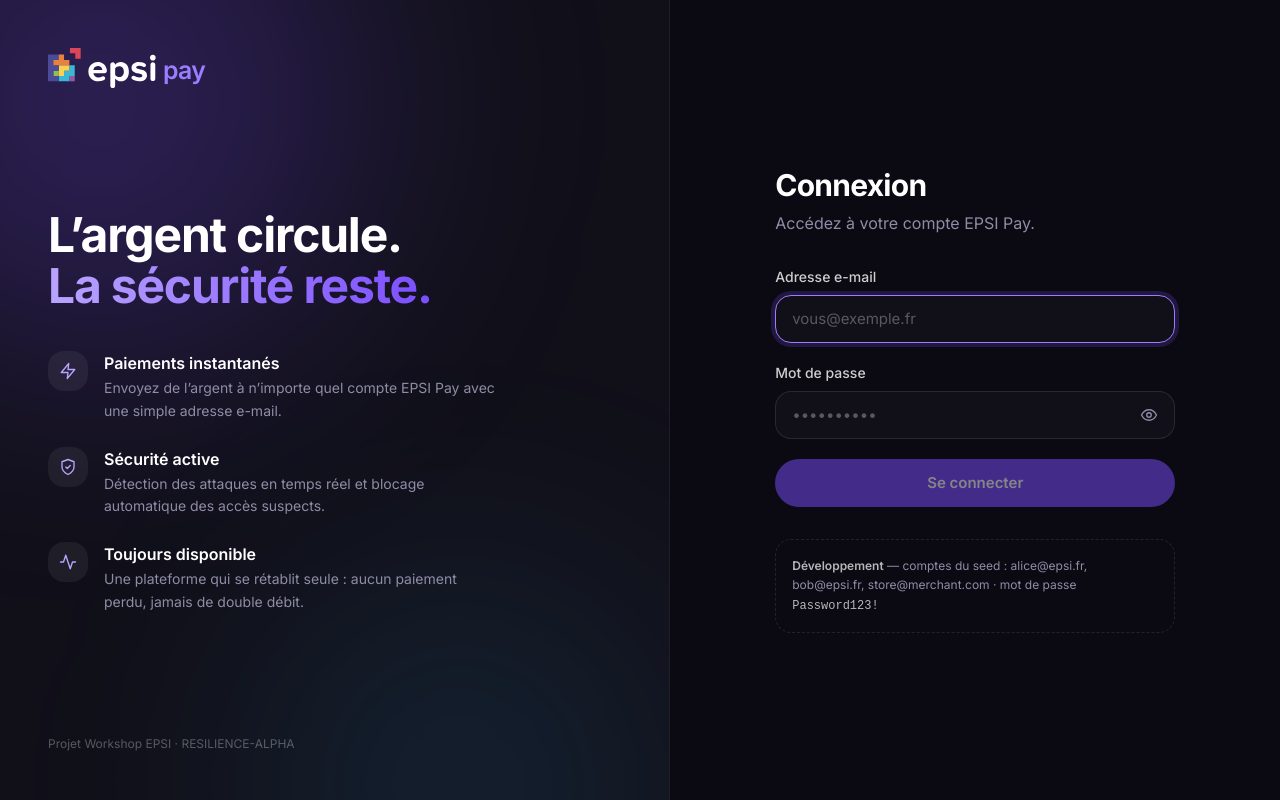
Test case: Écrans › Connexion › doit prévenir avant le verrouillage du compte
This screenshot has width=1280, height=800.
Type "alice@epsi.fr" into the field labelled "Adresse e-mail" at point(975, 319), box [775,295,1175,343]
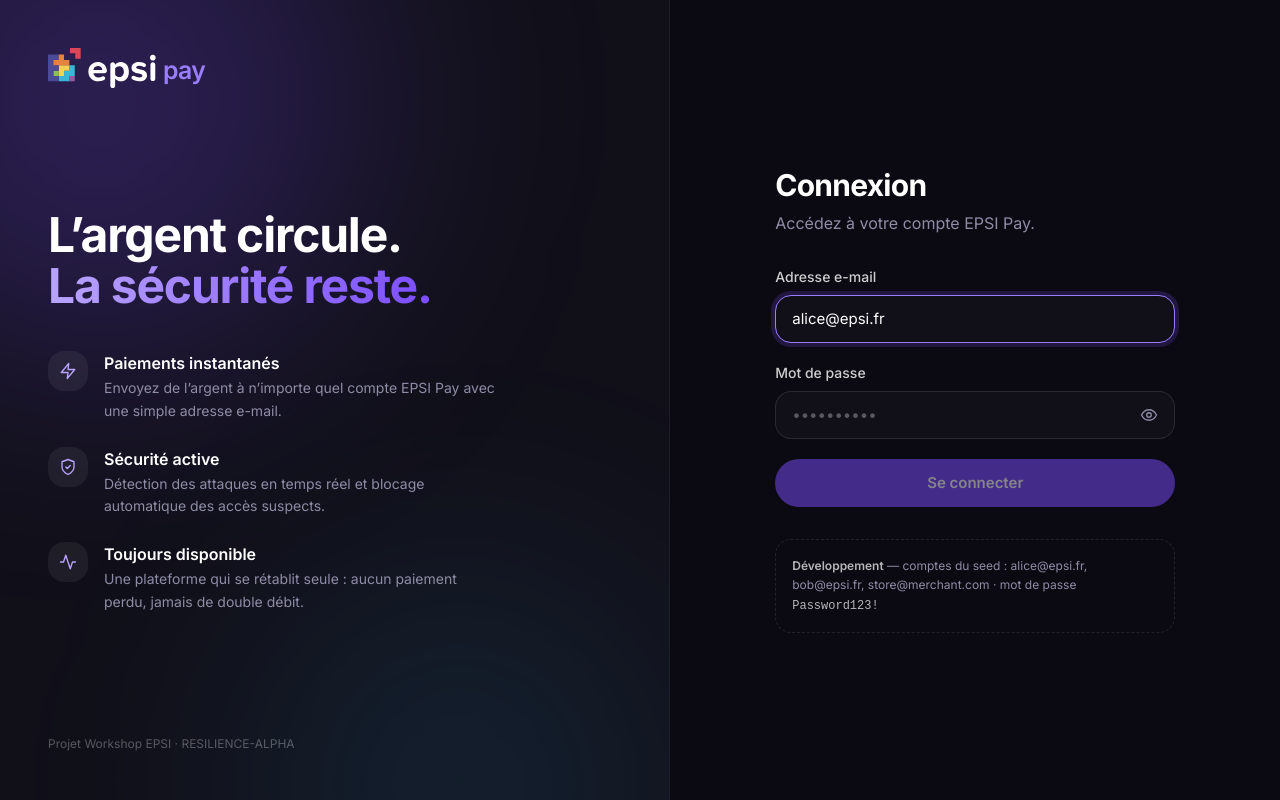
Type "mauvais" into the password field labelled "Mot de passe" at point(975, 415), box [775,391,1175,439]
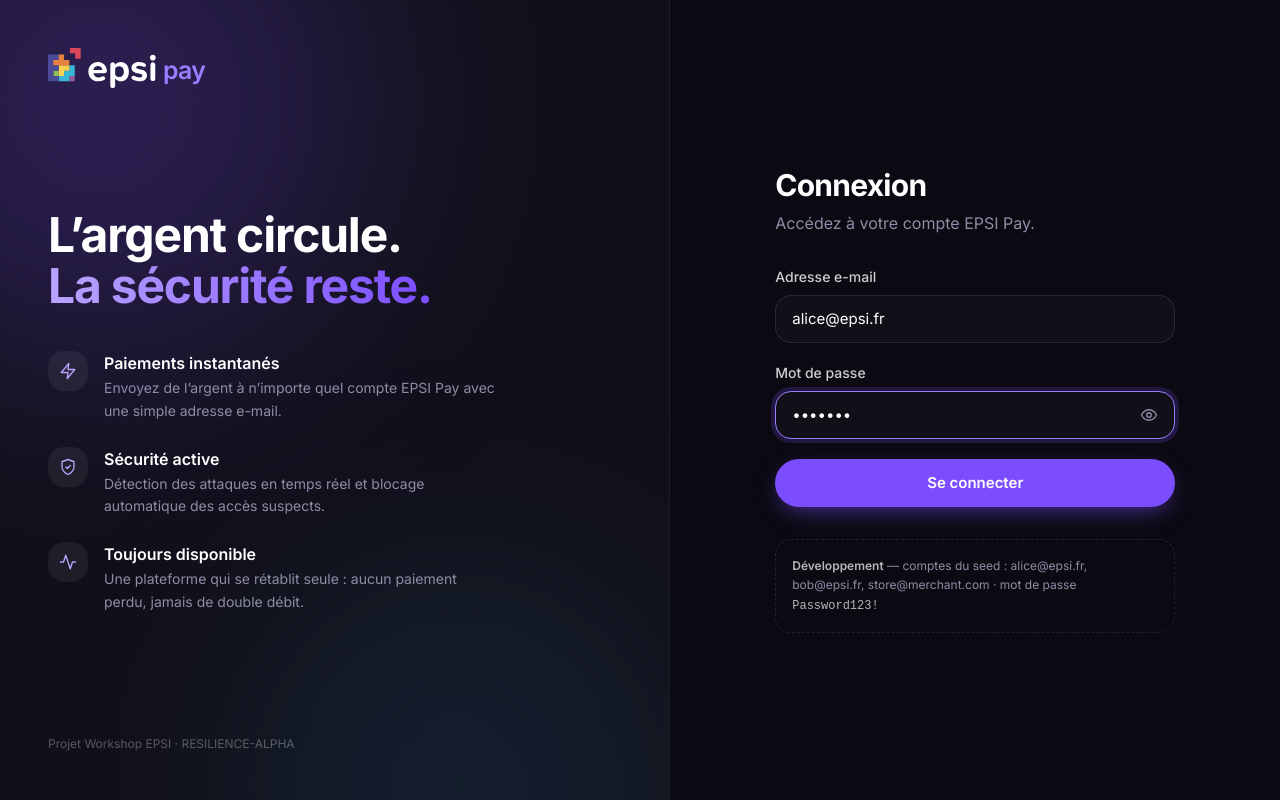
Click the button "Se connecter" at point(975, 483), box [775,459,1175,507]
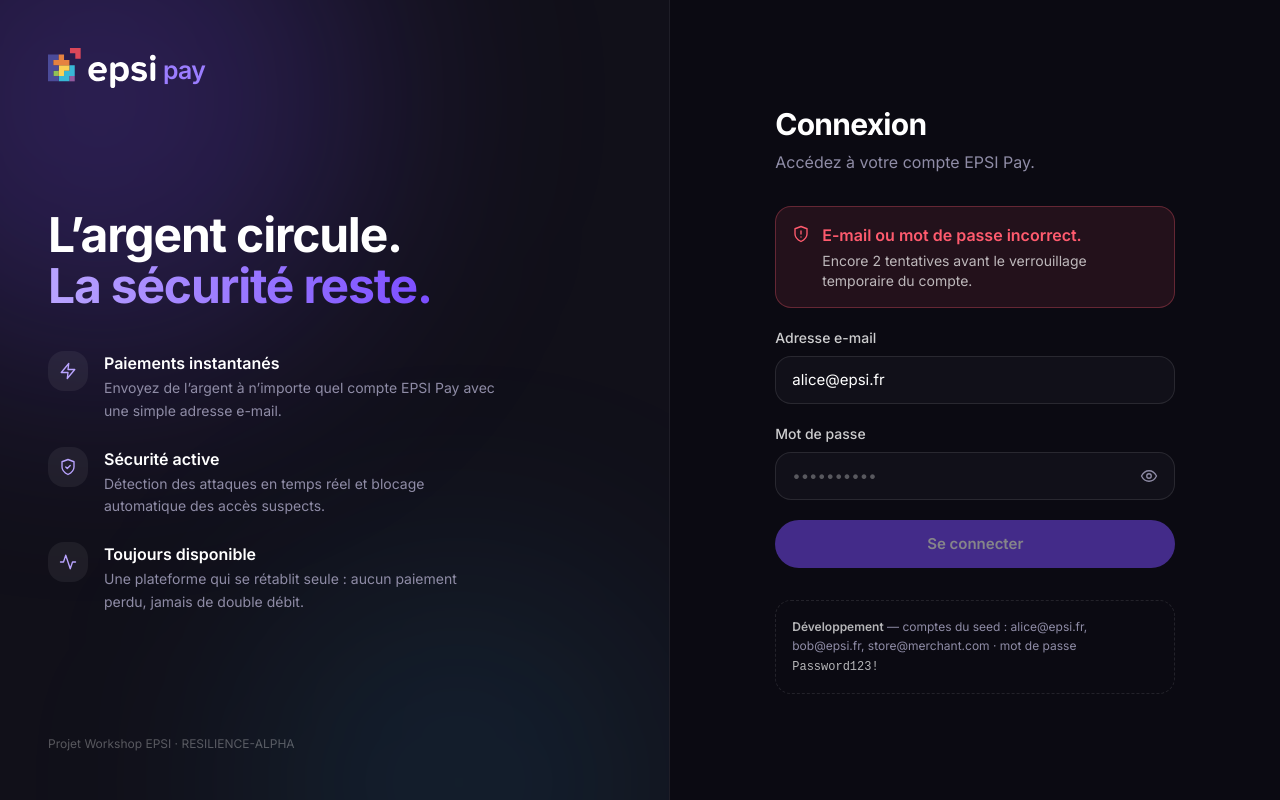
Expected: the message shows "E-mail ou mot de passe incorrect.", [822,225,1082,245]
Expected: the message shows "Encore 2 tentatives", [822,252,1087,289]
